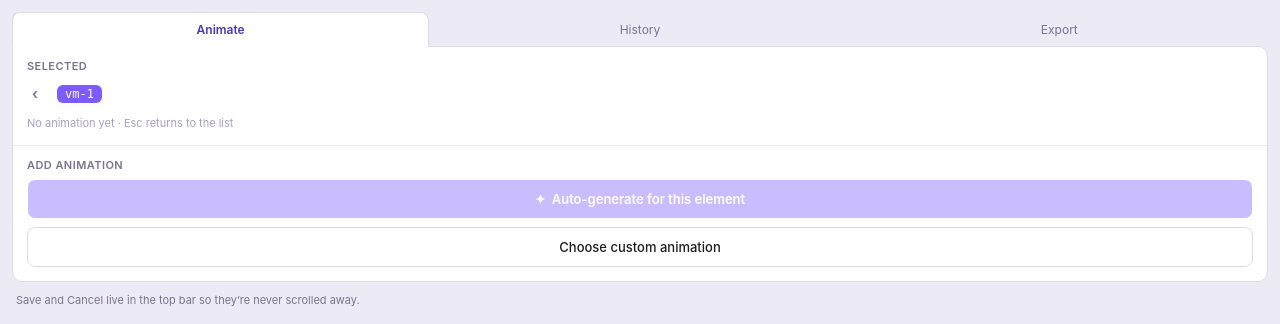
Test: ControlPanel › tuning and selected show ‹ only when opened from the result list
The width and height of the screenshot is (1280, 324).
Step 1. Click the button named "Back" → {"x": 35, "y": 94}, box left=21, top=80, right=49, bottom=108
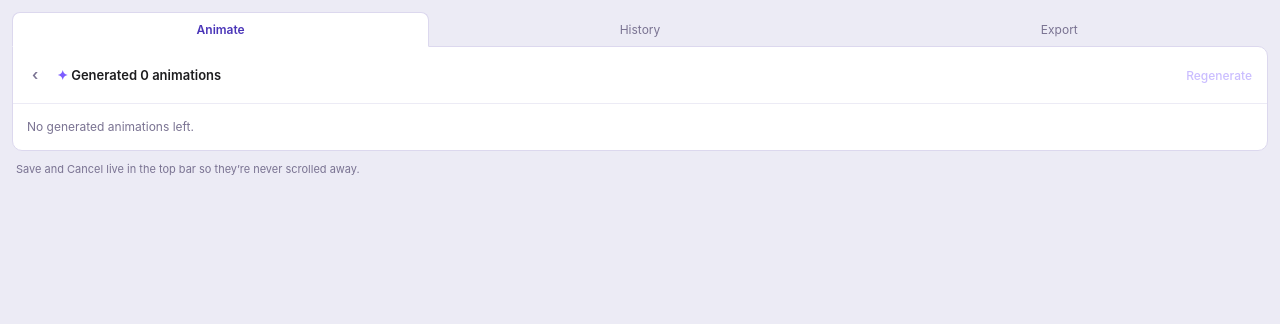
expect the element with test id "panel-auto-result" is shown: met, box left=12, top=46, right=1268, bottom=151
